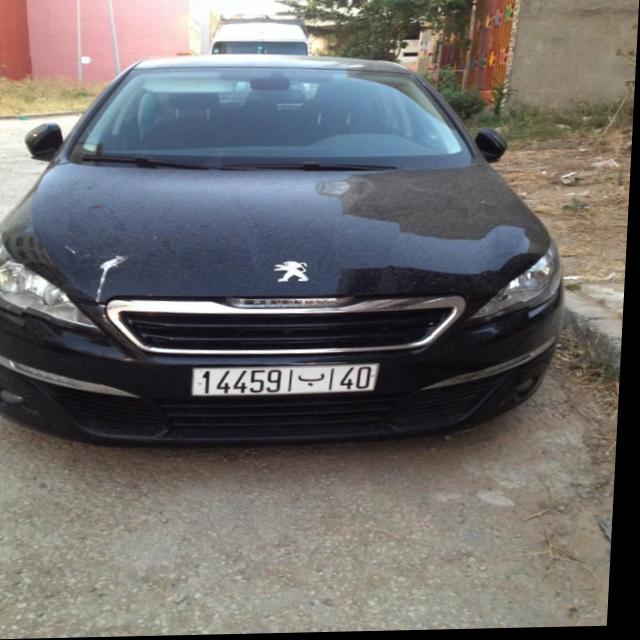License-Plate: (195, 366, 382, 397)
